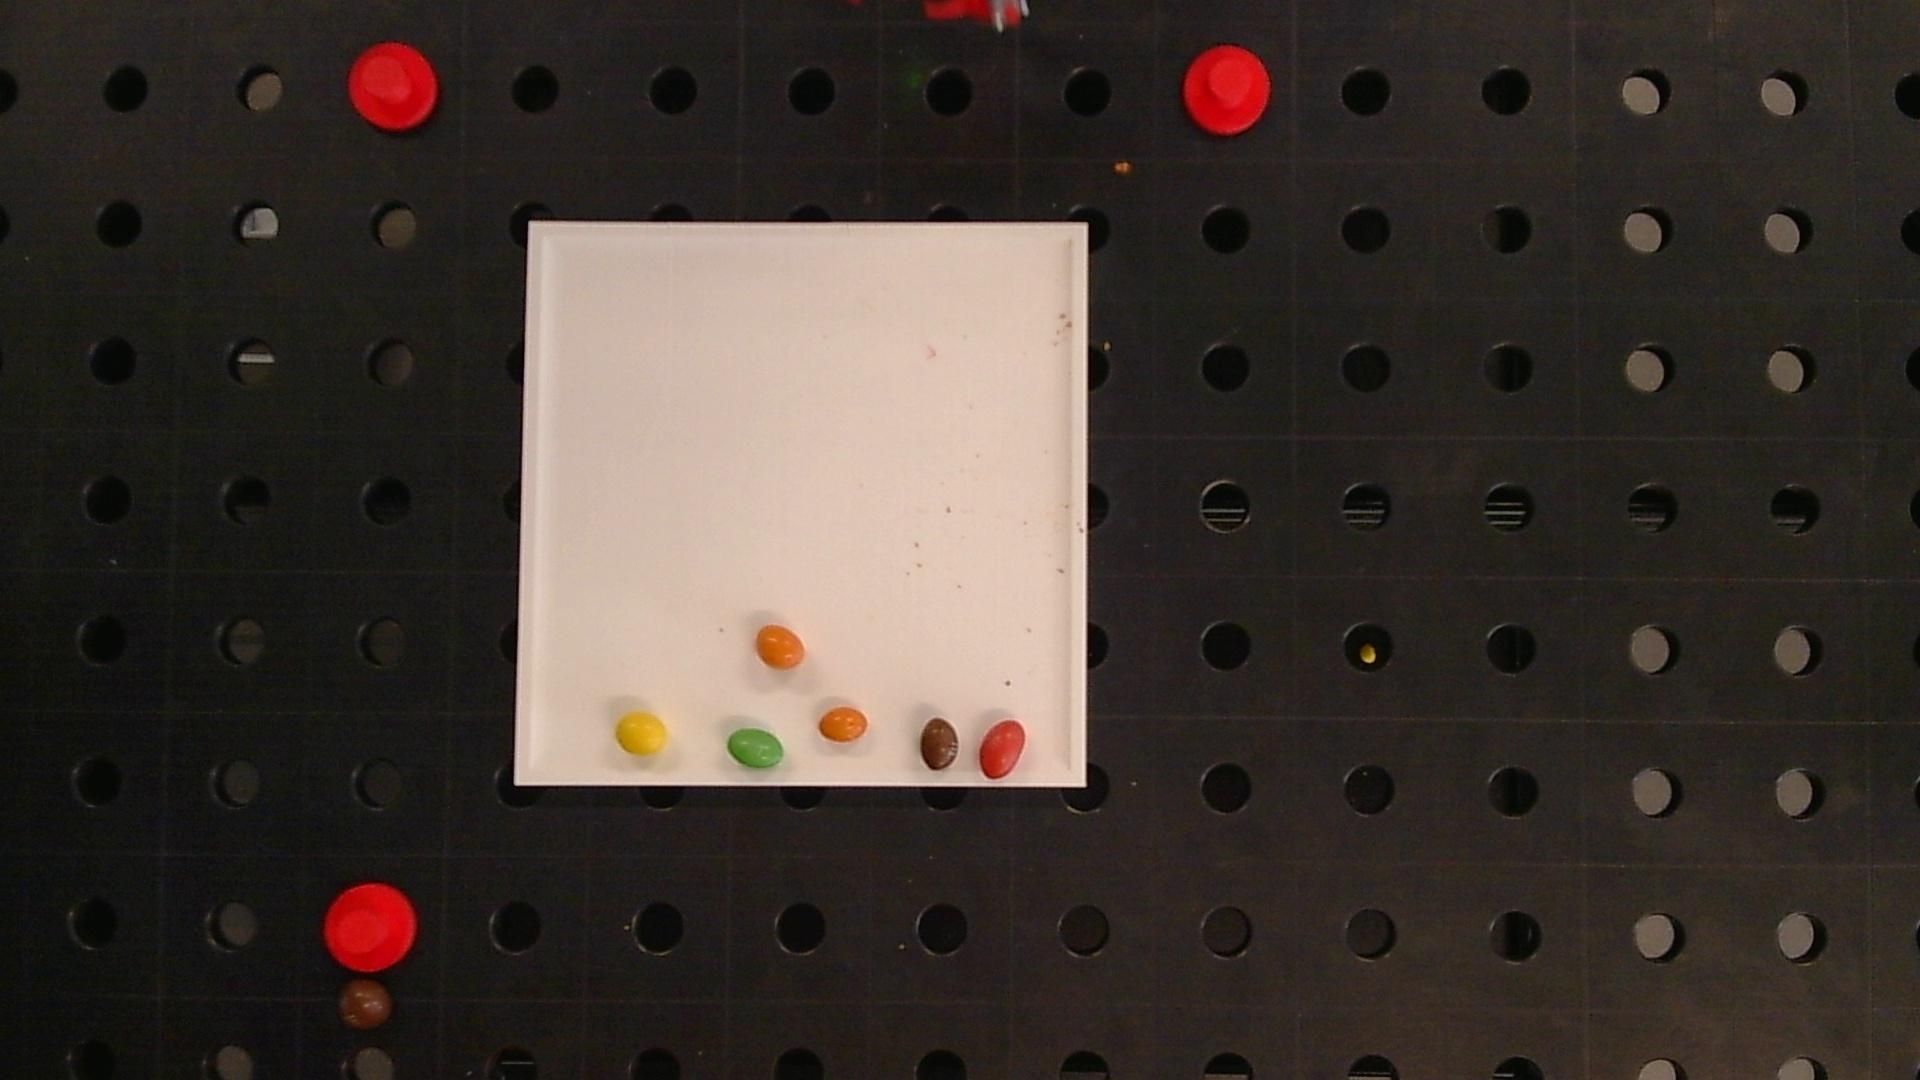brown: (919, 717, 960, 770)
green: (727, 728, 785, 769)
orange: (756, 624, 804, 669), (818, 705, 868, 741)
red: (978, 720, 1026, 779)
yellow: (615, 712, 669, 754)
